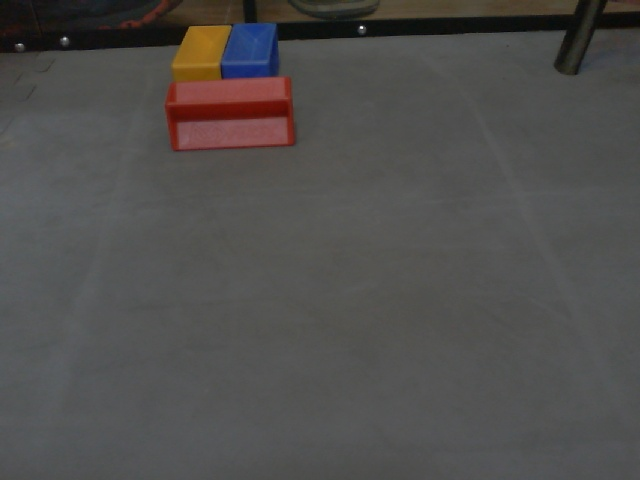BlueSample: (221, 19, 285, 80)
RedSample: (162, 76, 298, 152)
YellowSample: (171, 23, 229, 86)
